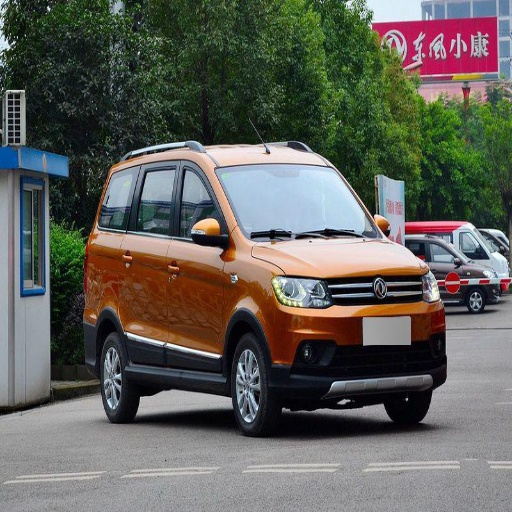front_bumper: (266, 272, 446, 402)
front_right_door: (164, 159, 229, 372)
front_right_light: (273, 273, 332, 309)
hood: (251, 236, 425, 279)
